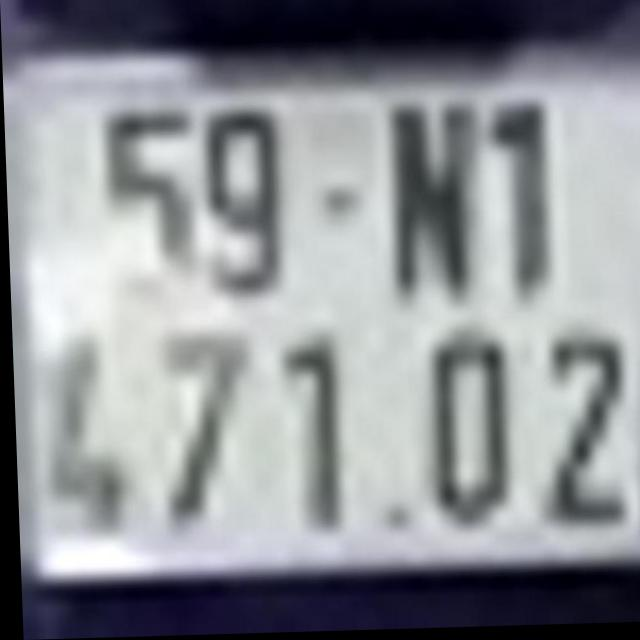0: (417, 315, 510, 535)
1: (488, 93, 558, 302), (279, 328, 349, 532)
2: (538, 329, 630, 534)
4: (42, 326, 126, 543)
5: (106, 108, 197, 307)
7: (149, 331, 257, 533)
9: (198, 109, 288, 314)
N: (386, 100, 477, 307)
